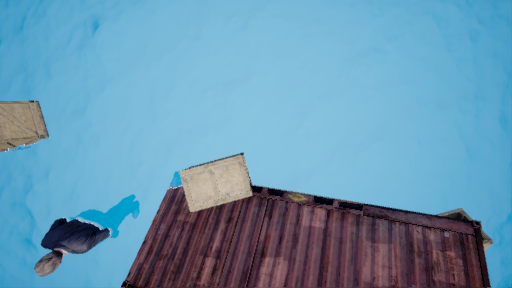person: (25, 185, 141, 273)
